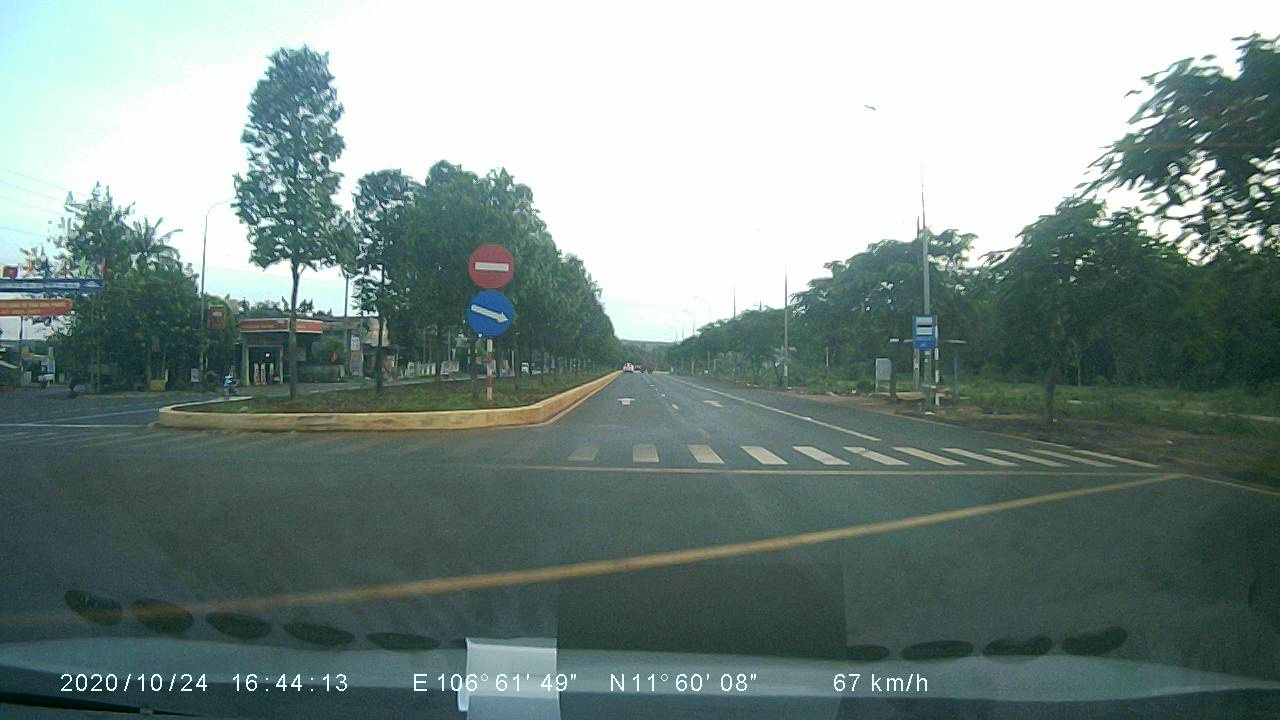Cam di nguoc chieu: (466, 240, 519, 288)
Huong di phai re phai: (462, 290, 516, 339)
